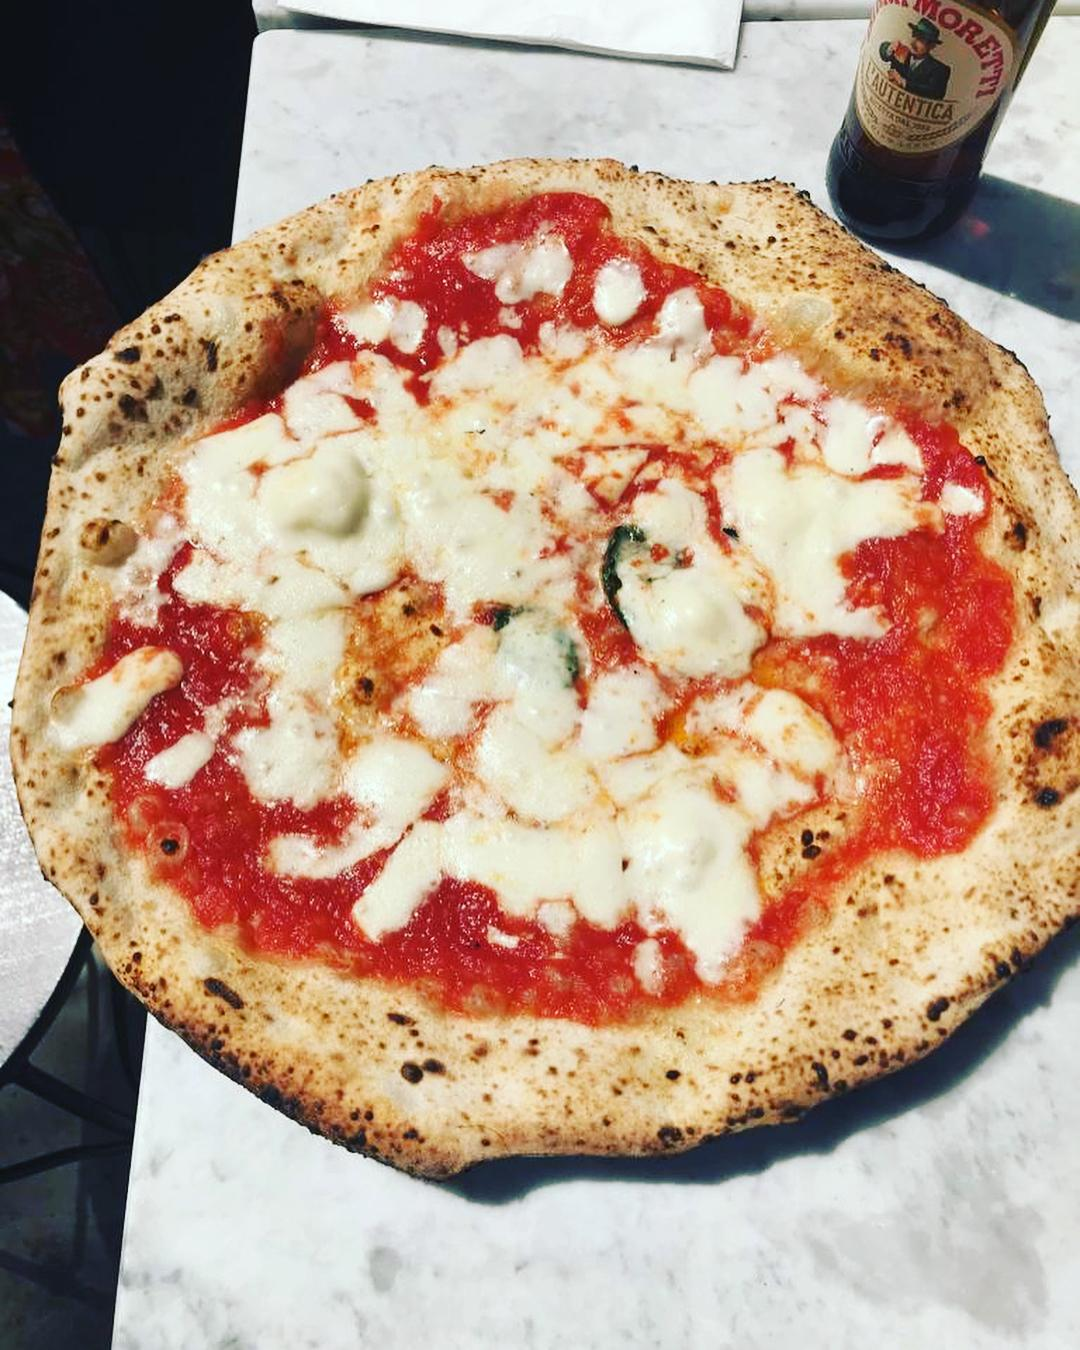Basil: (492, 606, 581, 691), (597, 522, 647, 645)
Cheese: (212, 438, 583, 596), (490, 734, 743, 885), (449, 356, 804, 438), (736, 464, 844, 609), (358, 752, 482, 873), (657, 493, 730, 660), (272, 613, 337, 788)
Pizza: (12, 190, 1080, 1176)
